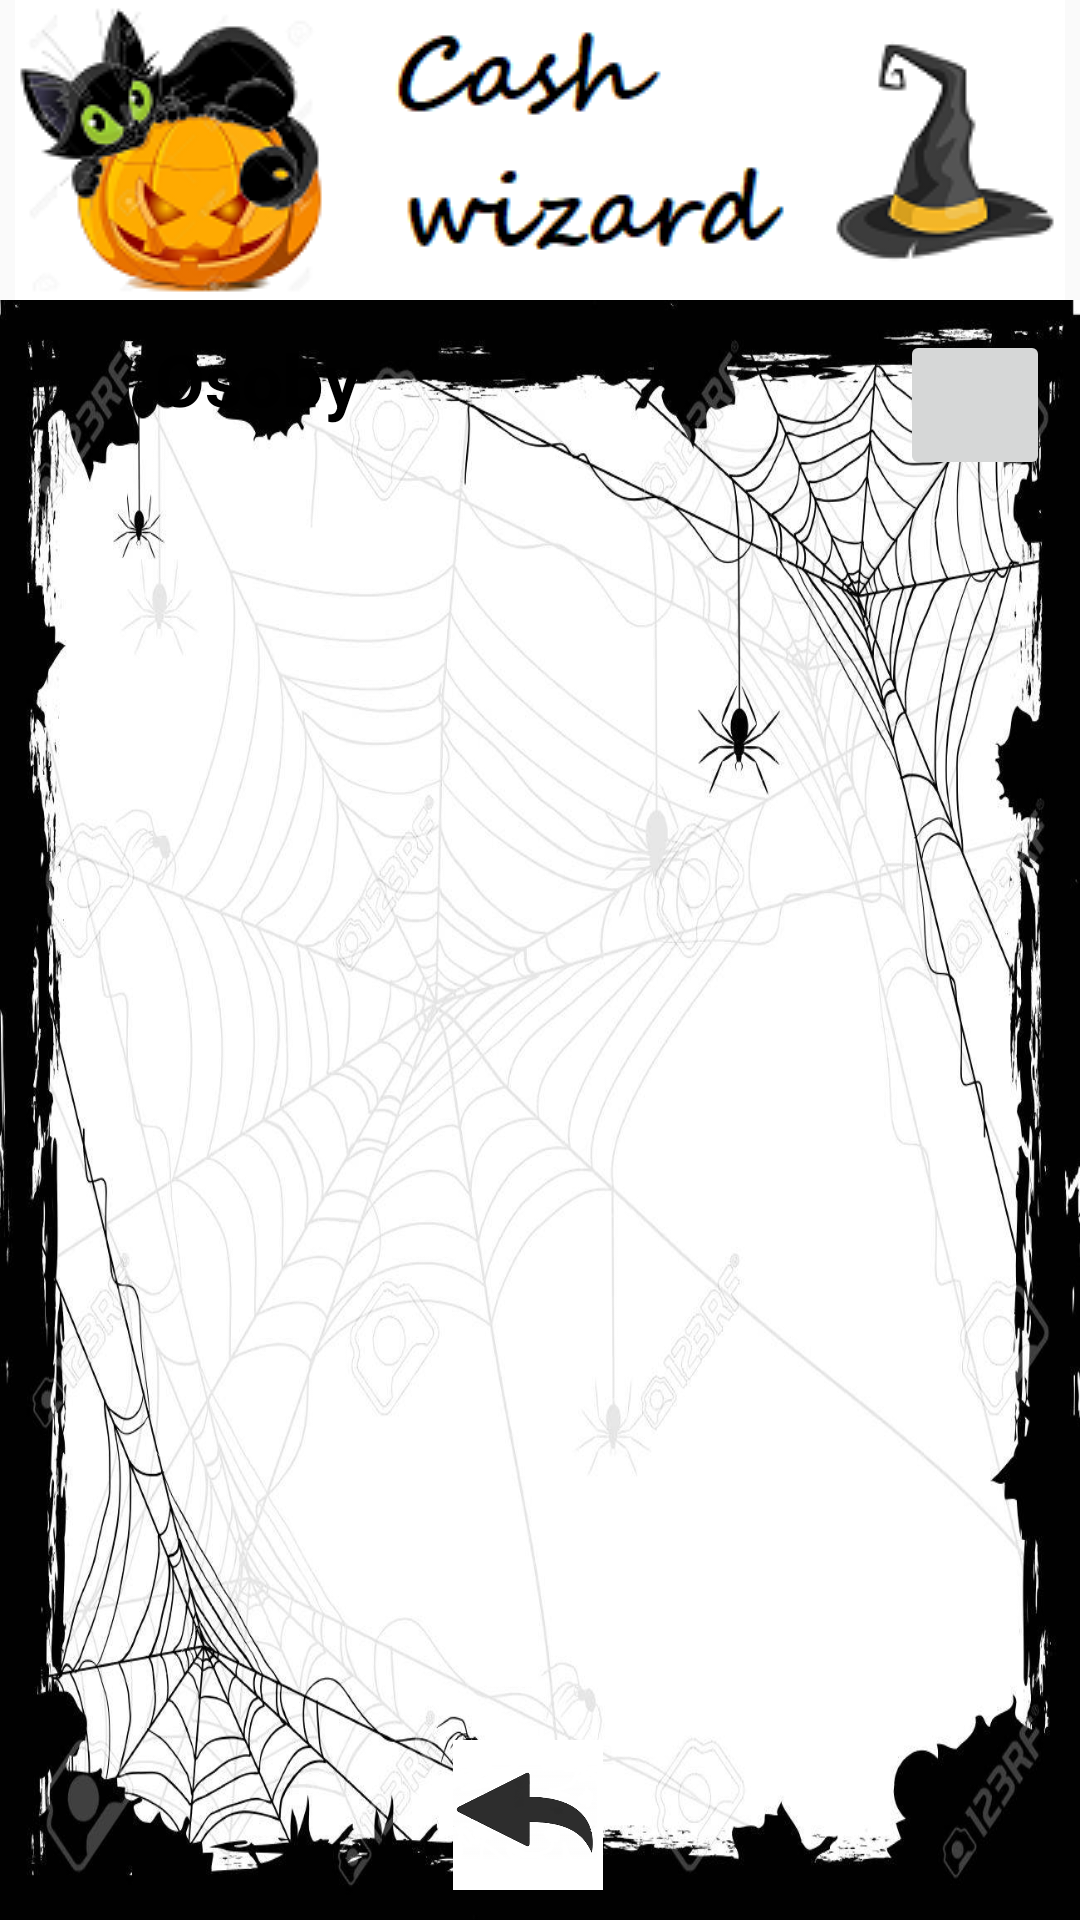

Icons on this 1080px×1920px Android screen, each with its box as [x1, y1, x2, y2]:
back: [456, 1773, 593, 1853]
